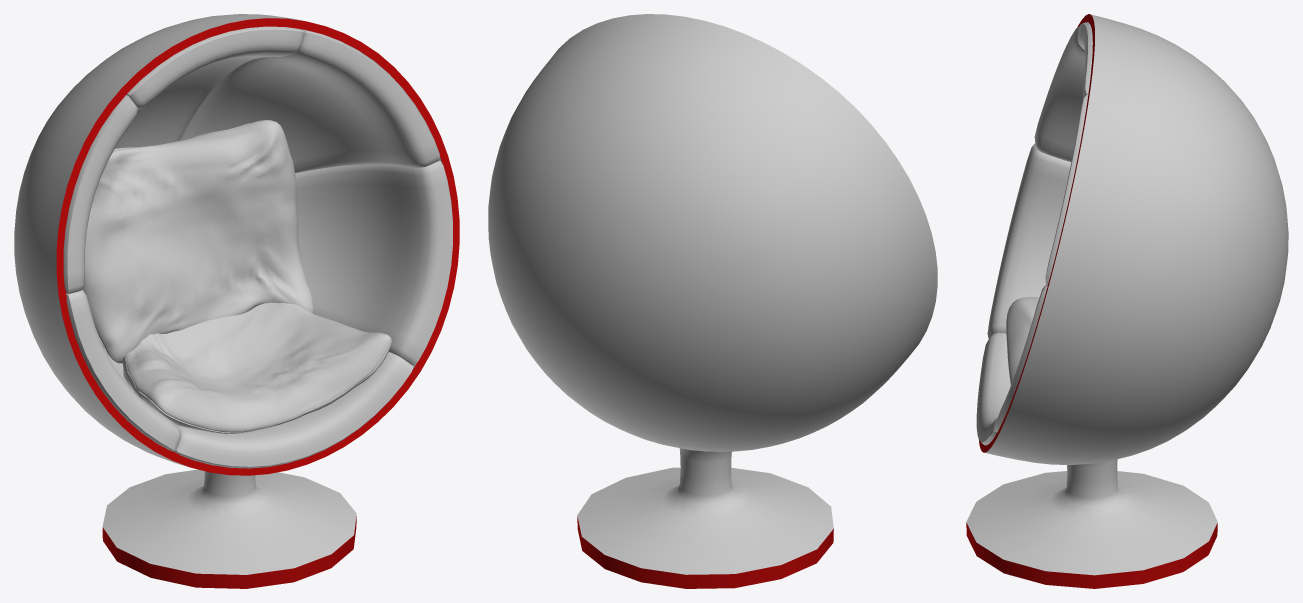
3 renders of one model, left to right at view 1: azimuth 30°, elevation 25°; view 2: azimuth 150°, elevation 25°; view 3: azimuth 270°, elevation 25°, orthographic. The views are drawn at different scales.
Parts seen in each view (by area): view 1: padding, pillow_top, shell, pillow_bottom, shell_trim; view 2: shell, shell_trim; view 3: shell, padding, shell_trim, pillow_bottom.
Part boxes in pixels (x1,y1,x2,y2): padding: (63,26,452,468); pillow_top: (82,120,313,363); shell: (14,14,441,574); pillow_bottom: (122,302,391,433); shell_trim: (56,18,459,588); shell: (488,14,937,574); shell_trim: (577,516,833,588); shell: (966,14,1288,575); padding: (976,22,1092,445); shell_trim: (966,14,1217,588); pillow_bottom: (1006,297,1039,384).
Bounding box in the file's own units: 0.6703 × 0.8246 × 0.4793.
